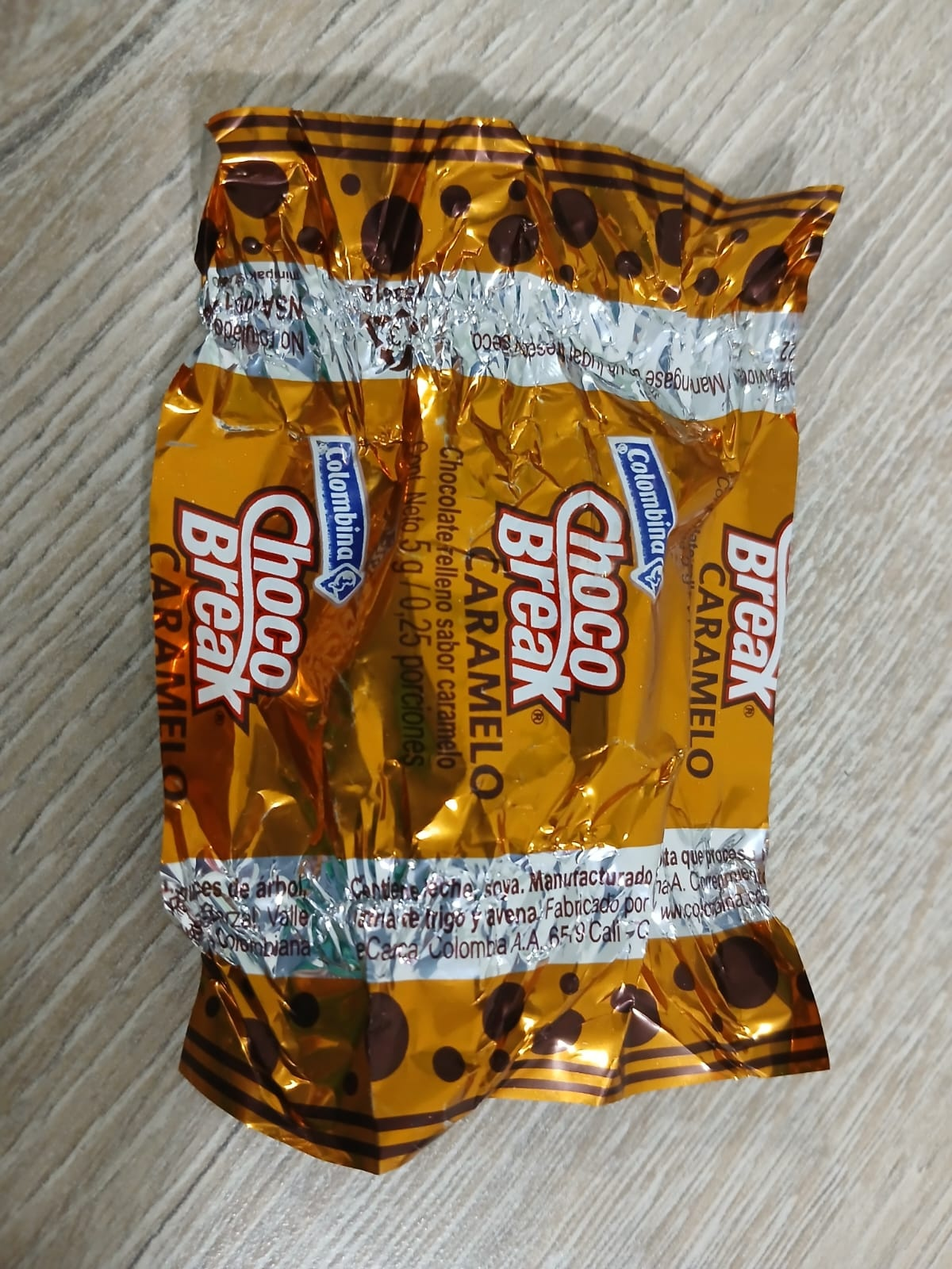Ordinario: (152, 112, 846, 1172)
